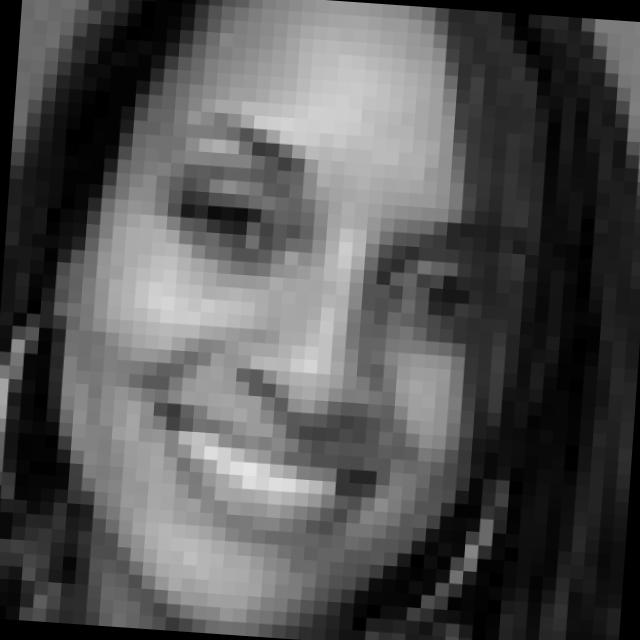happy: (128, 102, 526, 573)
